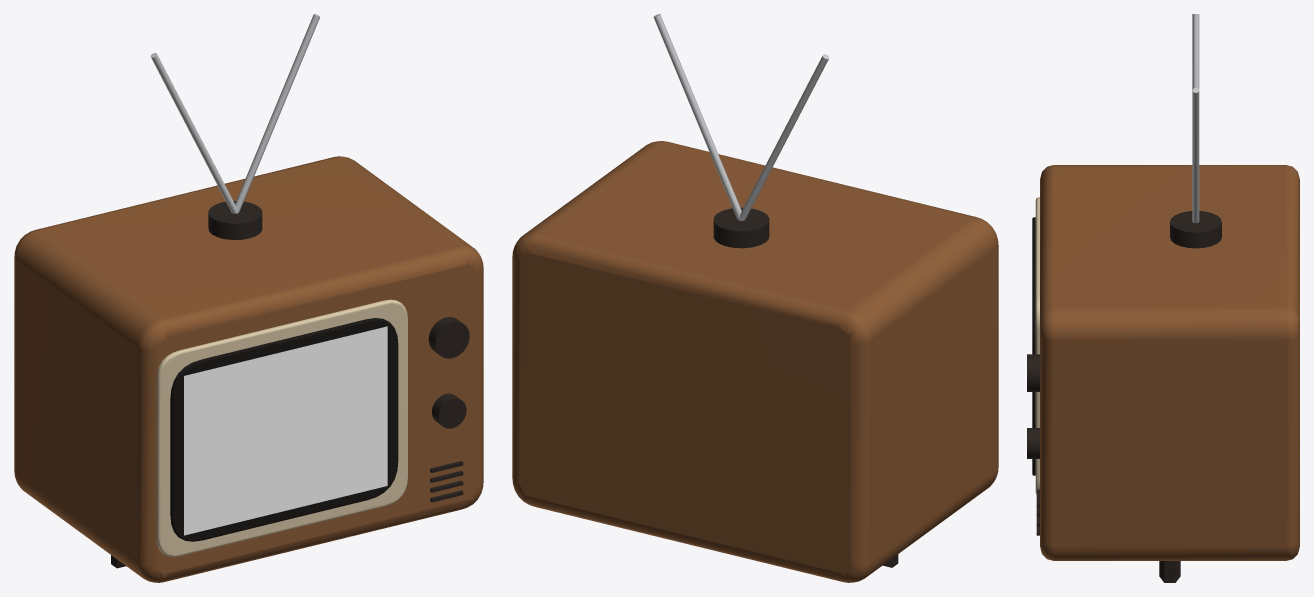
The picture shows the model from 3 angles, left to right: view 1: azimuth 30°, elevation 25°; view 2: azimuth 150°, elevation 25°; view 3: azimuth 270°, elevation 25°; orthographic projection. The views are drawn at different scales.
Visible parts, largest first — view 1: Wood, Screen, Trim, Bezel, Knob, Chrome; view 2: Wood, Chrome, Knob; view 3: Wood, Knob, Chrome, Trim, Bezel.
Boxes of the visible parts, left/top/right/bottom form: Wood: left=14, top=156, right=483, bottom=582; Screen: left=184, top=326, right=387, bottom=535; Trim: left=156, top=299, right=407, bottom=556; Bezel: left=170, top=318, right=398, bottom=541; Knob: left=111, top=201, right=469, bottom=568; Chrome: left=150, top=14, right=319, bottom=213; Wood: left=512, top=141, right=998, bottom=582; Chrome: left=653, top=14, right=829, bottom=220; Knob: left=713, top=207, right=898, bottom=567; Wood: left=1040, top=165, right=1299, bottom=560; Knob: left=1027, top=211, right=1221, bottom=582; Chrome: left=1192, top=14, right=1199, bottom=223; Trim: left=1035, top=197, right=1039, bottom=494; Bezel: left=1032, top=217, right=1035, bottom=475.
Size of the model in its own units: 0.44 by 0.5978 by 0.315.
